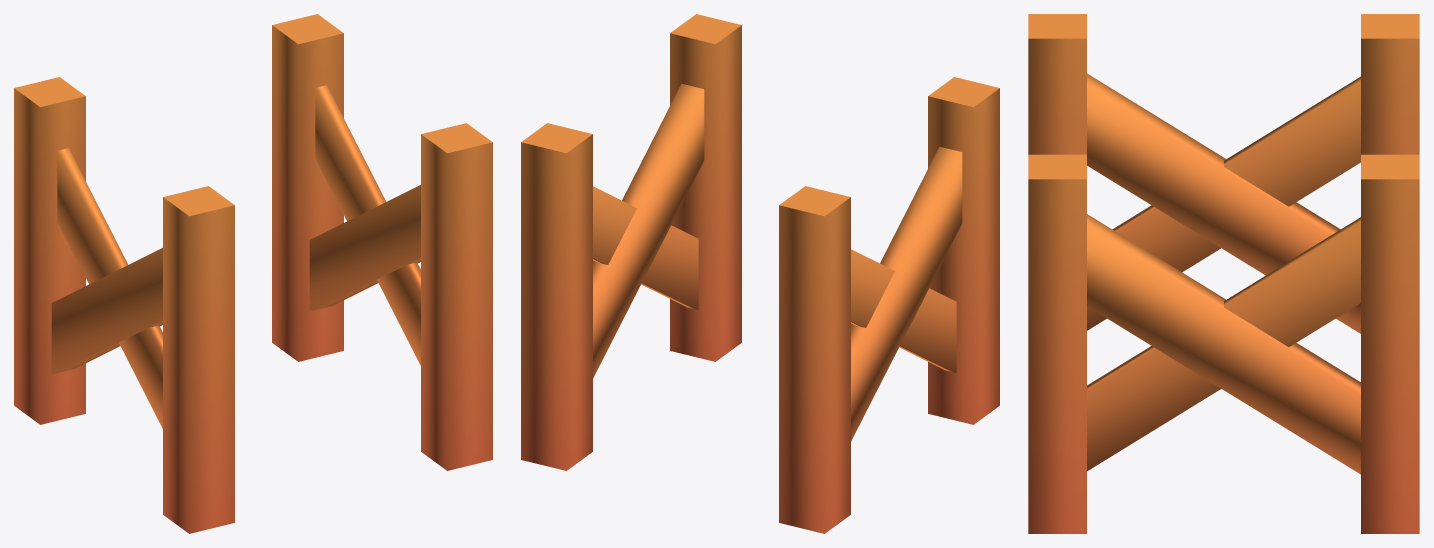
The model's file is supports-diagonal.fbx.
The picture shows the model from 3 angles, left to right: view 1: azimuth 30°, elevation 25°; view 2: azimuth 150°, elevation 25°; view 3: azimuth 270°, elevation 25°; orthographic projection. The views are drawn at different scales.
Parts seen in each view (by area): view 1: supports-diagonal; view 2: supports-diagonal; view 3: supports-diagonal.
Part boxes in pixels (left/top/right/bottom): supports-diagonal: left=14, top=14, right=492, bottom=533; supports-diagonal: left=521, top=14, right=999, bottom=533; supports-diagonal: left=1028, top=14, right=1419, bottom=533.
Bounding box in the file's own units: 100 × 100 × 100.
